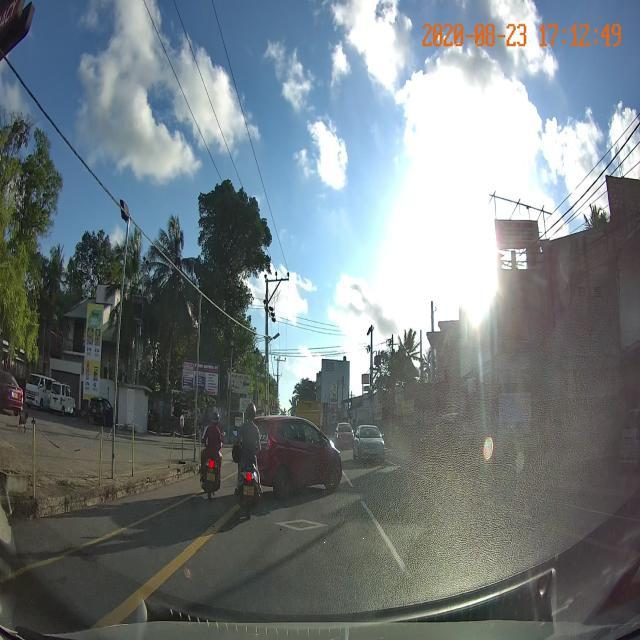diamond: (180, 509, 403, 551)
